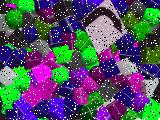Right: (80, 0, 128, 55)
